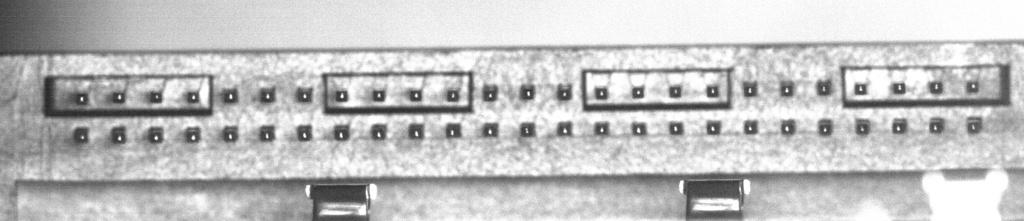pin_ok: (966, 116, 983, 133), (482, 84, 498, 101), (928, 117, 945, 133), (185, 126, 201, 143), (296, 124, 312, 141), (147, 126, 163, 143), (371, 123, 387, 140), (556, 84, 572, 100), (855, 118, 871, 134), (296, 86, 312, 102), (222, 87, 238, 103), (259, 125, 275, 141), (73, 127, 89, 143), (222, 126, 238, 142), (333, 124, 349, 140), (742, 81, 758, 97), (408, 123, 424, 139), (258, 87, 275, 102), (818, 118, 833, 135), (111, 126, 126, 143), (743, 119, 759, 134), (780, 119, 796, 134), (520, 84, 535, 100), (445, 123, 461, 138), (520, 122, 536, 137), (816, 80, 831, 96), (892, 118, 907, 133), (706, 119, 721, 134), (668, 121, 684, 135), (594, 121, 610, 135), (631, 121, 647, 135), (482, 123, 498, 137), (891, 81, 906, 95), (928, 80, 943, 94), (557, 122, 572, 136), (780, 82, 794, 97), (705, 84, 720, 98), (594, 86, 608, 100), (372, 88, 386, 102), (446, 88, 460, 102), (966, 79, 980, 93), (334, 89, 349, 102), (186, 90, 200, 103), (409, 89, 423, 102), (74, 92, 88, 105), (854, 82, 868, 95), (631, 85, 645, 98), (669, 84, 682, 98), (149, 90, 162, 103), (112, 91, 125, 103)
